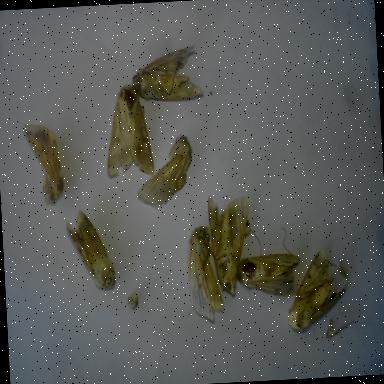abw: (281, 245, 352, 336), (204, 189, 258, 301), (130, 126, 199, 213), (99, 80, 157, 182), (125, 39, 207, 107), (61, 204, 119, 296), (15, 114, 71, 209), (180, 220, 227, 325), (232, 246, 305, 302)
